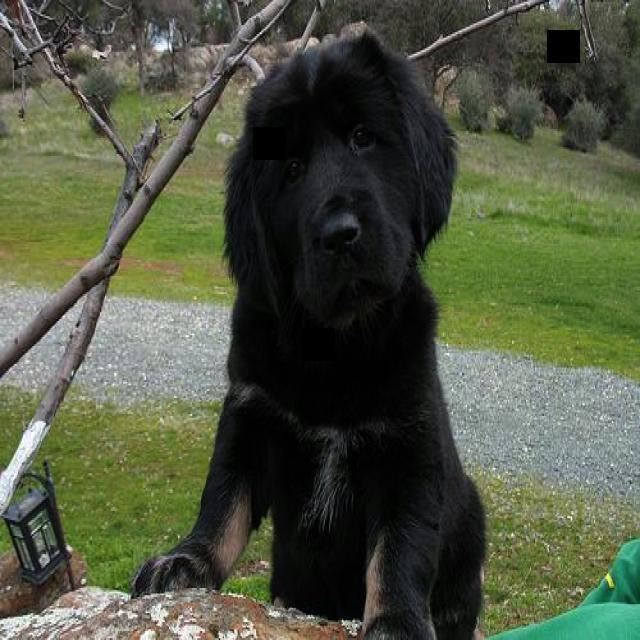adult_dog: (132, 26, 491, 640)
